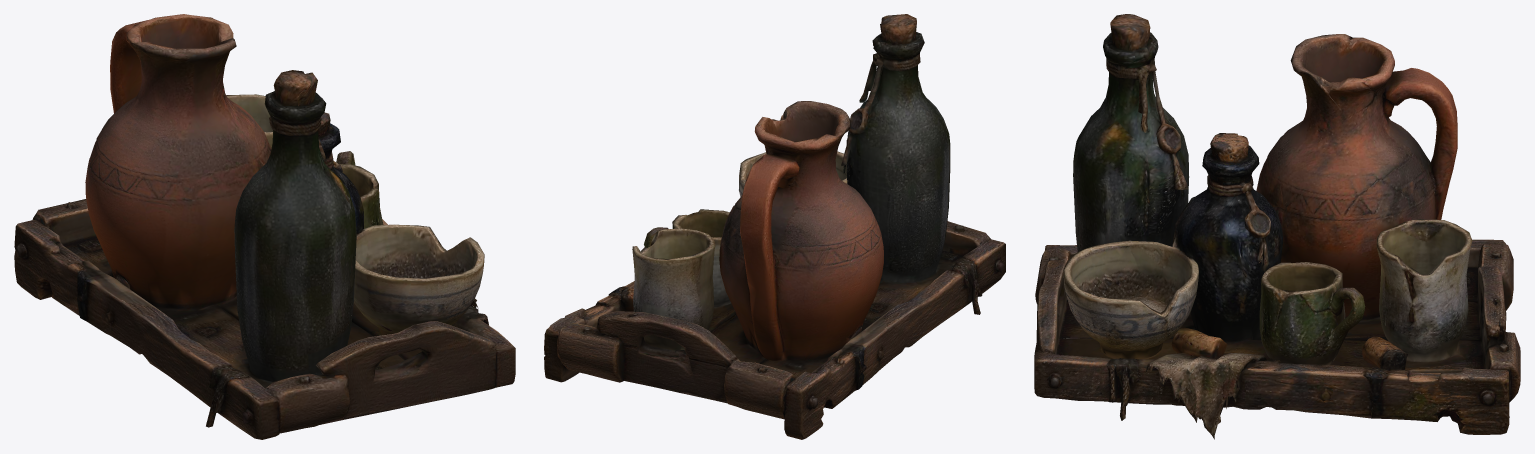
Rendered from bottles-jugs-crockery-cluster.glb.
The picture shows the model from 3 angles, left to right: view 1: azimuth 30°, elevation 25°; view 2: azimuth 150°, elevation 25°; view 3: azimuth 270°, elevation 25°; orthographic projection. The views are drawn at different scales.
Visible parts, largest first — view 1: tripo_node_dddbf268-1fcb-4819-a1e0-55c7cacecc6d; view 2: tripo_node_dddbf268-1fcb-4819-a1e0-55c7cacecc6d; view 3: tripo_node_dddbf268-1fcb-4819-a1e0-55c7cacecc6d.
Boxes of the visible parts, bbox=[...] form: tripo_node_dddbf268-1fcb-4819-a1e0-55c7cacecc6d: bbox=[14, 14, 515, 439]; tripo_node_dddbf268-1fcb-4819-a1e0-55c7cacecc6d: bbox=[544, 14, 1005, 439]; tripo_node_dddbf268-1fcb-4819-a1e0-55c7cacecc6d: bbox=[1034, 14, 1520, 439].
Size of the model in its own units: 0.7079 by 0.7248 by 1.
1 material, 1 textured.
